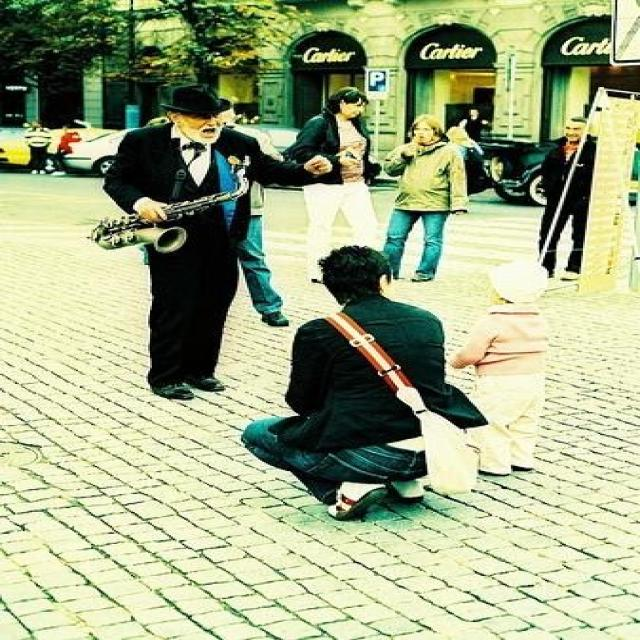saxophone: (81, 160, 256, 258)
